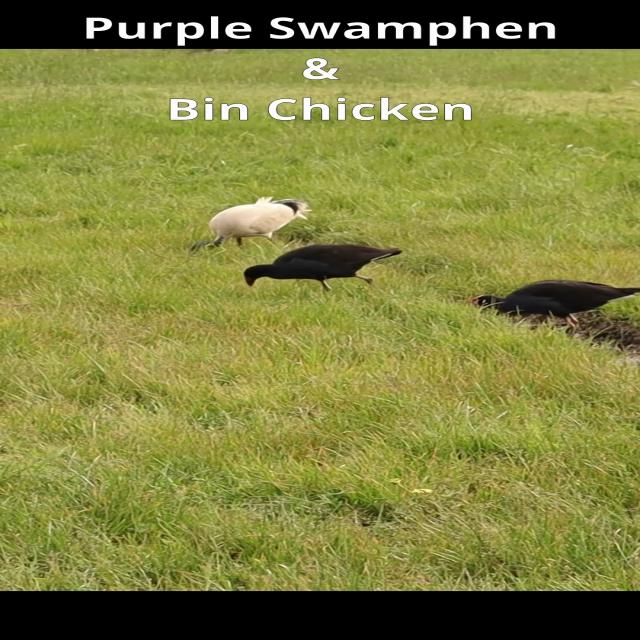Birds-Ibis: (202, 192, 316, 255)
Birds-Other: (470, 274, 640, 334), (237, 239, 404, 295)
